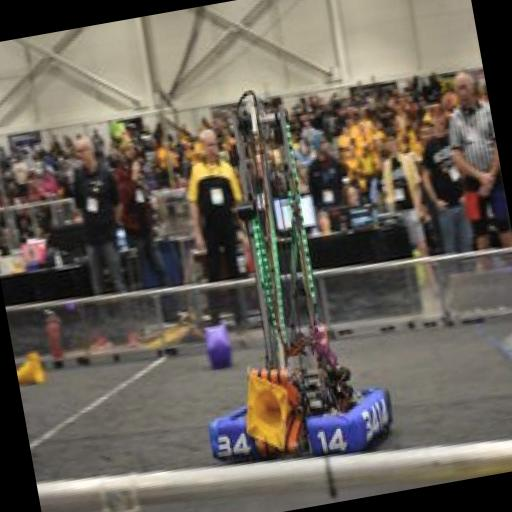robot: (145, 77, 430, 488)
